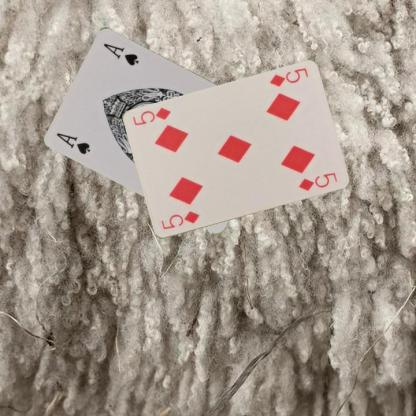5d: (266, 65, 309, 89), (158, 209, 200, 231)
As: (54, 130, 92, 156)
